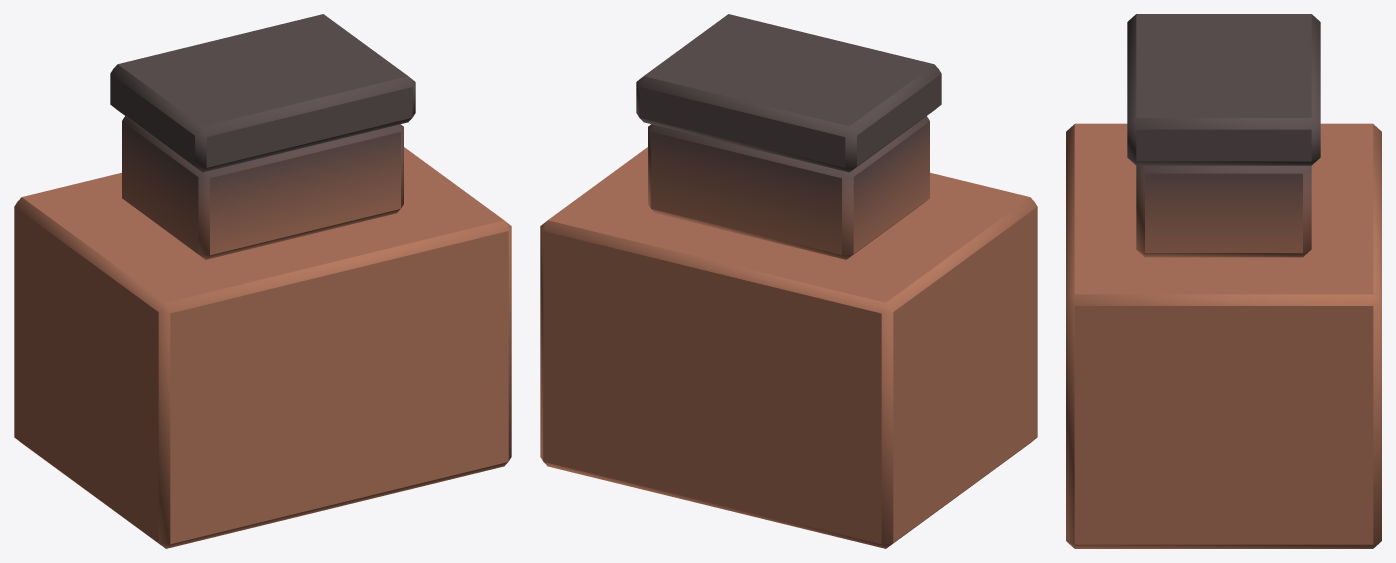
File: building-wide.glb
The picture shows the model from 3 angles, left to right: view 1: azimuth 30°, elevation 25°; view 2: azimuth 150°, elevation 25°; view 3: azimuth 270°, elevation 25°; orthographic projection. The views are drawn at different scales.
Visible parts, largest first — view 1: BuildingWide; view 2: BuildingWide; view 3: BuildingWide.
Part boxes in pixels (x1=…): BuildingWide: x1=14, y1=14, x2=511, y2=548; BuildingWide: x1=540, y1=14, x2=1037, y2=548; BuildingWide: x1=1066, y1=14, x2=1381, y2=548.
Size of the model in its own units: 0.48 by 0.5 by 0.36.
